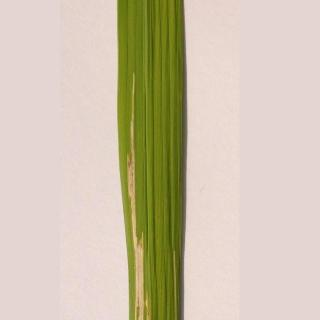Hawar-Daun: (96, 88, 172, 320)
